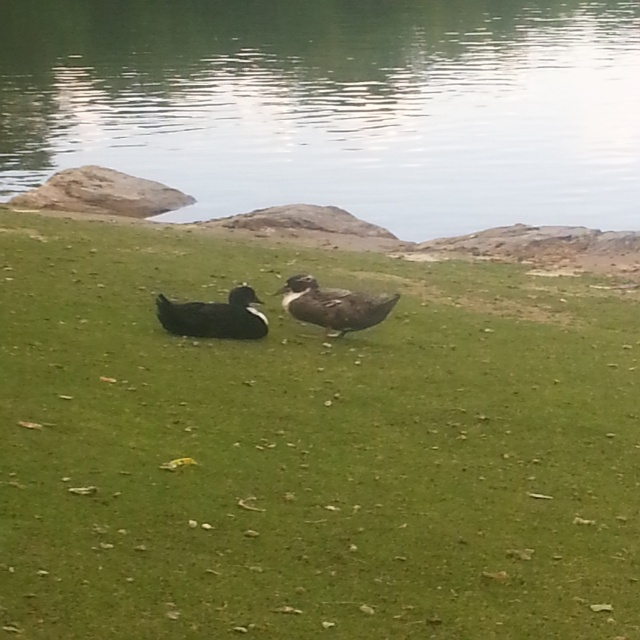Goose: (270, 269, 382, 340), (152, 286, 271, 337)
